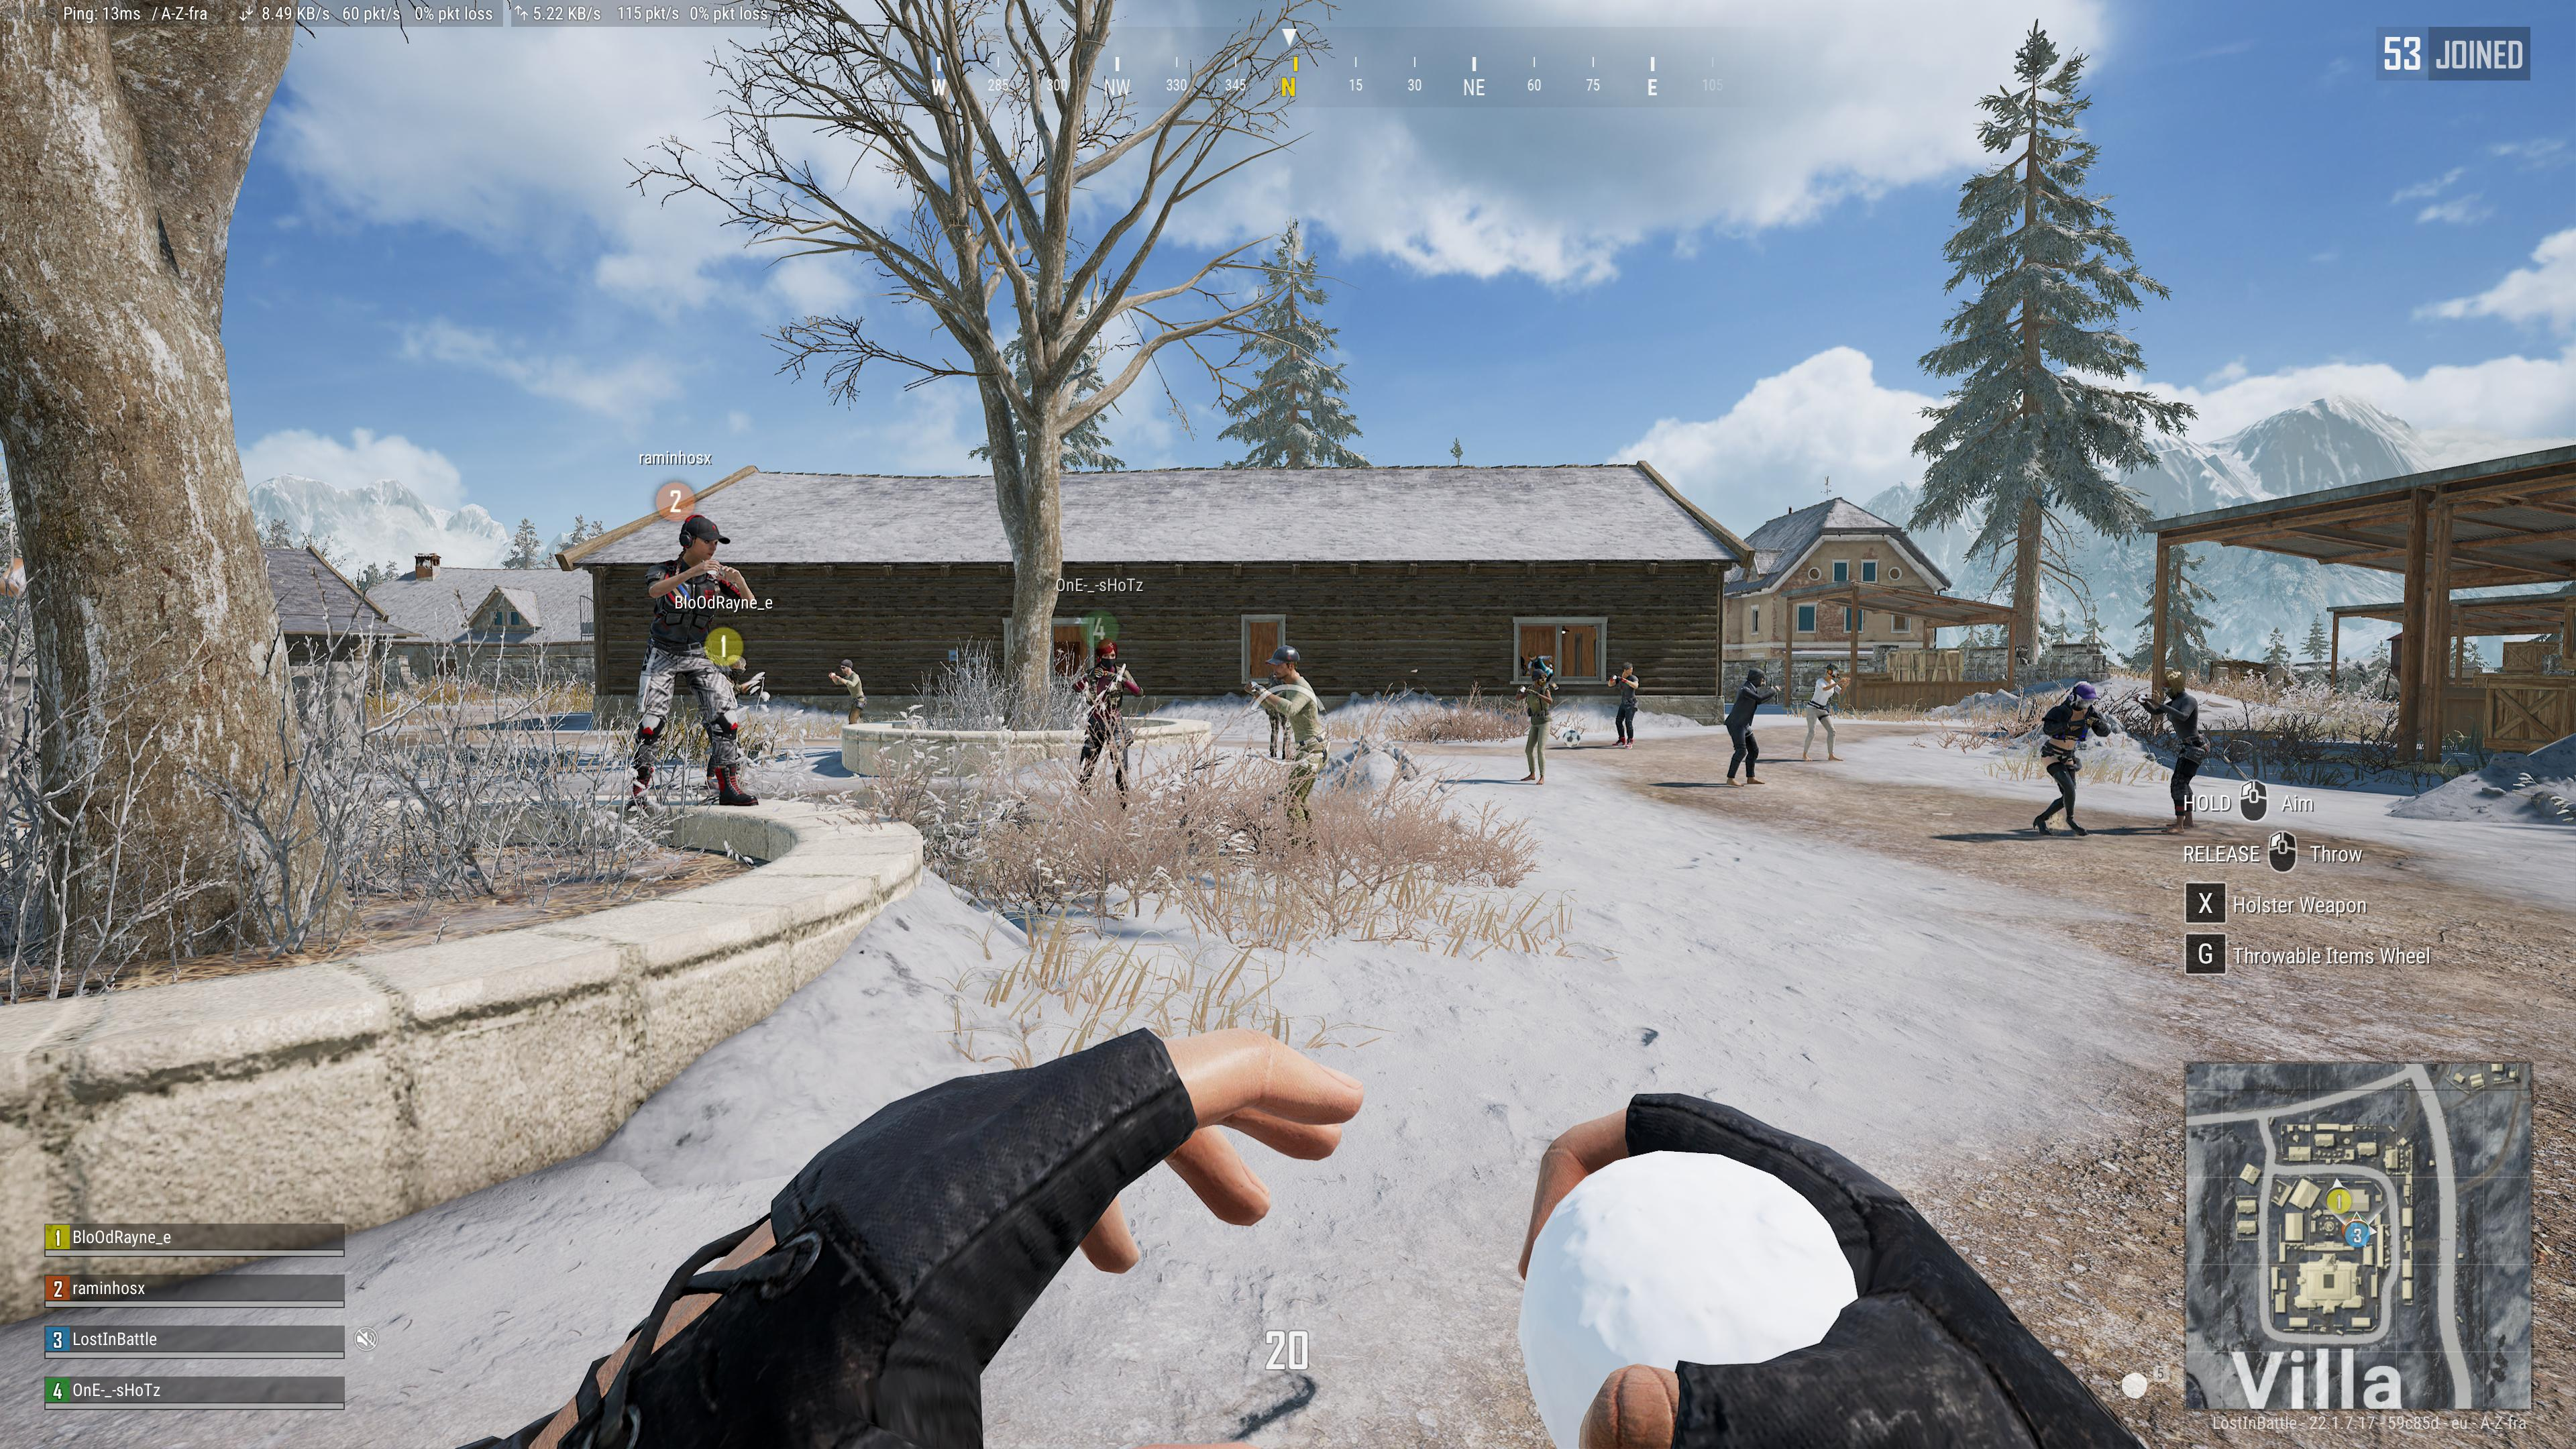enemy: (2134, 669, 2212, 833), (2033, 681, 2112, 839), (1723, 667, 1782, 786), (1514, 655, 1557, 780), (1801, 663, 1849, 761), (1606, 662, 1638, 748), (828, 658, 867, 725)
enemy_head: (1267, 644, 1302, 676), (2068, 681, 2100, 709), (2160, 669, 2185, 697), (1746, 667, 1766, 688), (1530, 669, 1546, 686), (1824, 663, 1842, 679), (839, 658, 855, 672), (1621, 662, 1633, 676), (1527, 651, 1536, 662)
friendly: (625, 495, 773, 816), (1069, 628, 1143, 809)
